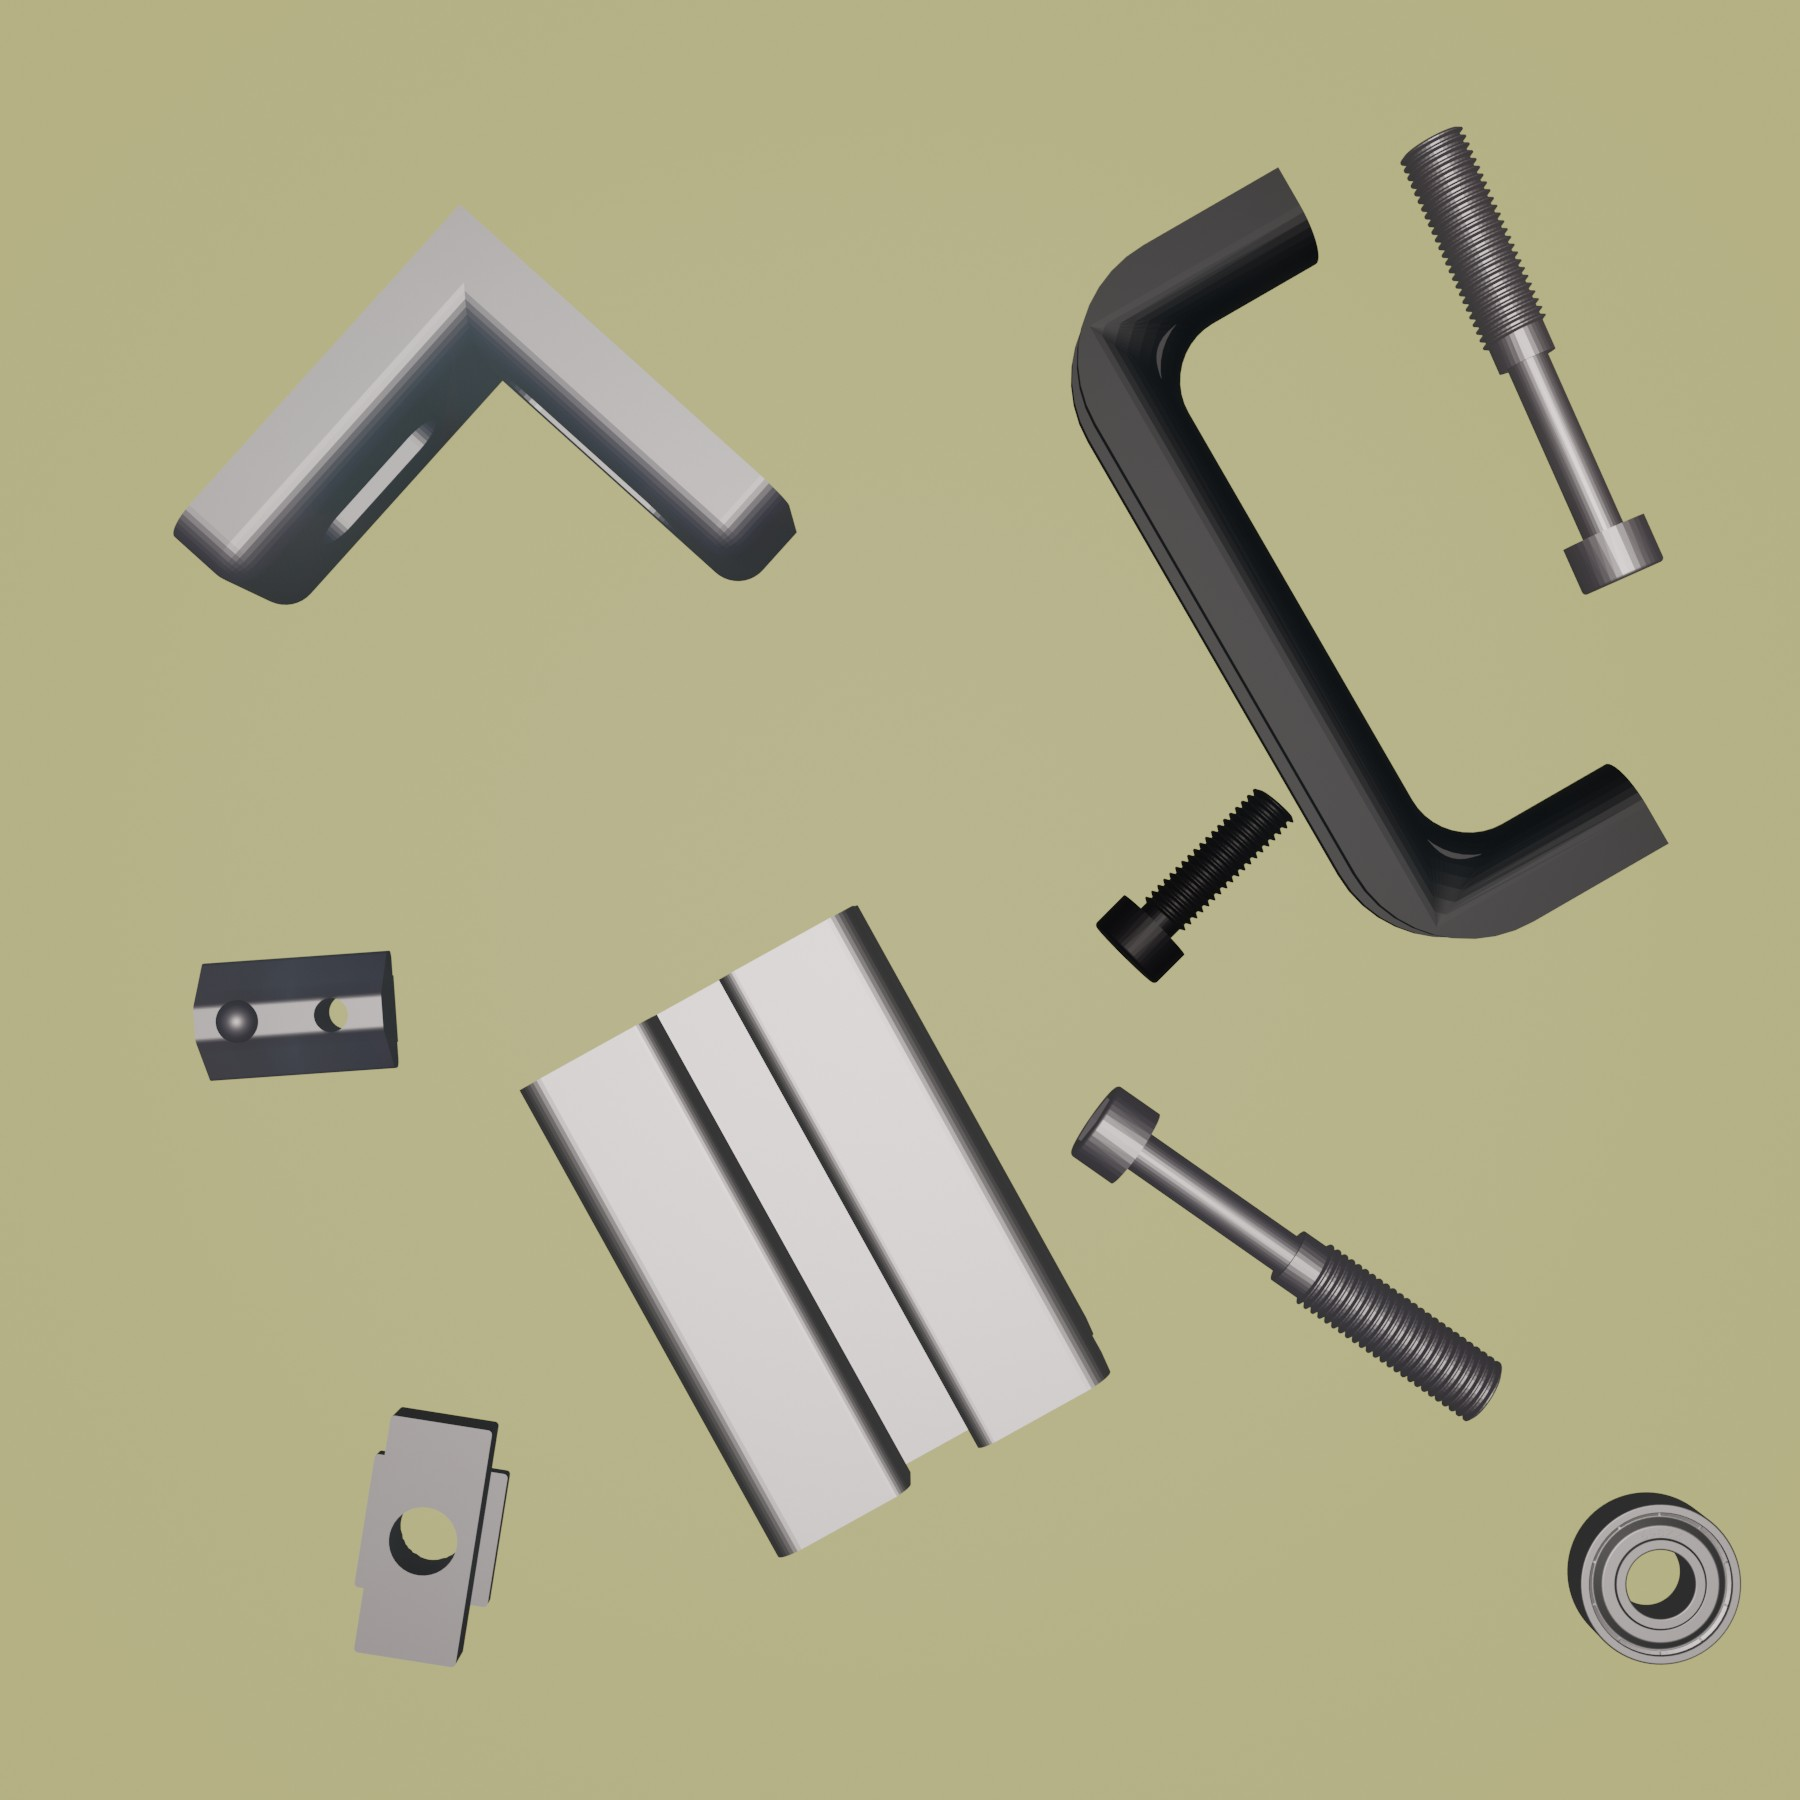Aluminium Extension: (516, 903, 1113, 1559)
Ball Bearing: (1563, 1487, 1742, 1668)
Multiwinkel: (170, 185, 799, 608)
Pull Handle: (1070, 162, 1671, 941)
Shoulder Socket Head Cap Screw: (1066, 1086, 1505, 1431), (1398, 120, 1665, 595)
Socket Head Cap Screw: (1091, 786, 1297, 989)
T Nut Square: (348, 1399, 513, 1673)
T Spring Nut: (188, 943, 404, 1085)
